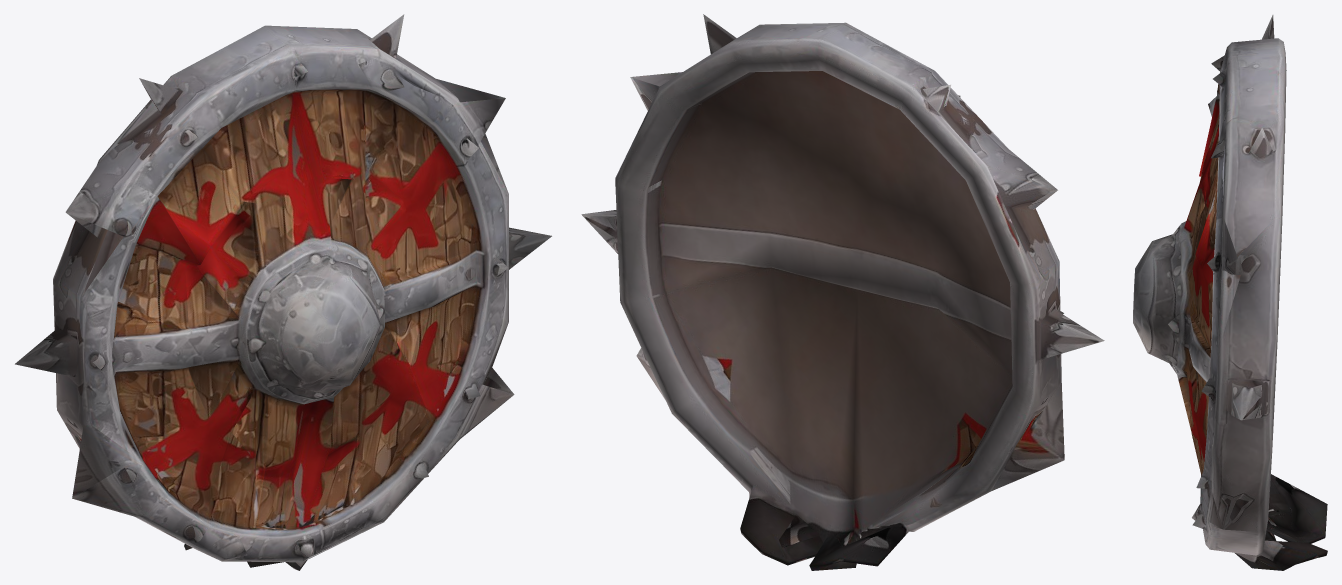
The model's file is orcshield.glb.
3 views of the same model, side by side, from view 1: azimuth 30°, elevation 25°; view 2: azimuth 150°, elevation 25°; view 3: azimuth 270°, elevation 25° (orthographic). The views are drawn at different scales.
Visible parts, largest first — view 1: item; view 2: item; view 3: item.
Part boxes in pixels (x1,y1,x2,y2): item: (15, 14, 551, 570); item: (581, 14, 1104, 570); item: (1133, 15, 1327, 570).
Size of the model in its own units: 0.86 by 0.8253 by 0.2896.
Materials: 1 (1 with a texture image).
